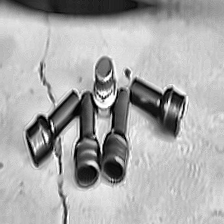cracked: (33, 9, 58, 109), (52, 135, 70, 224)
